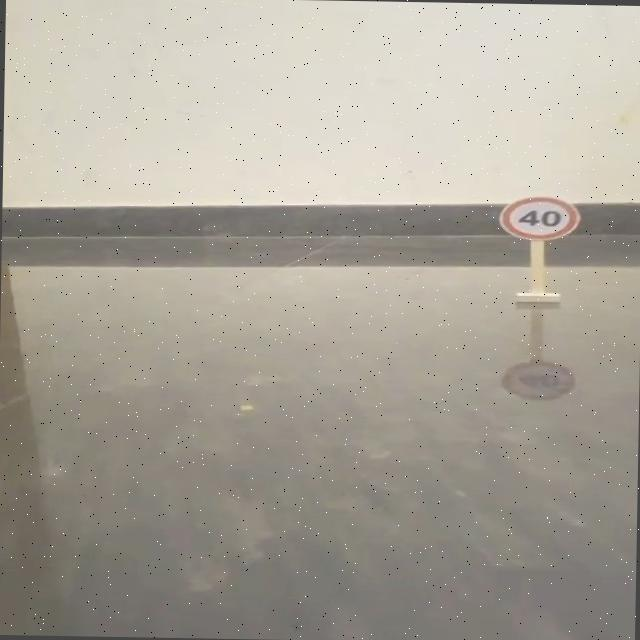Speed40: (494, 192, 584, 244)
